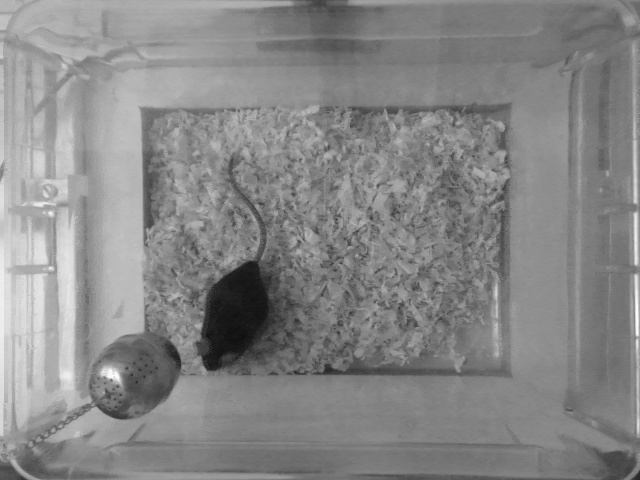mice: (198, 144, 269, 374)
